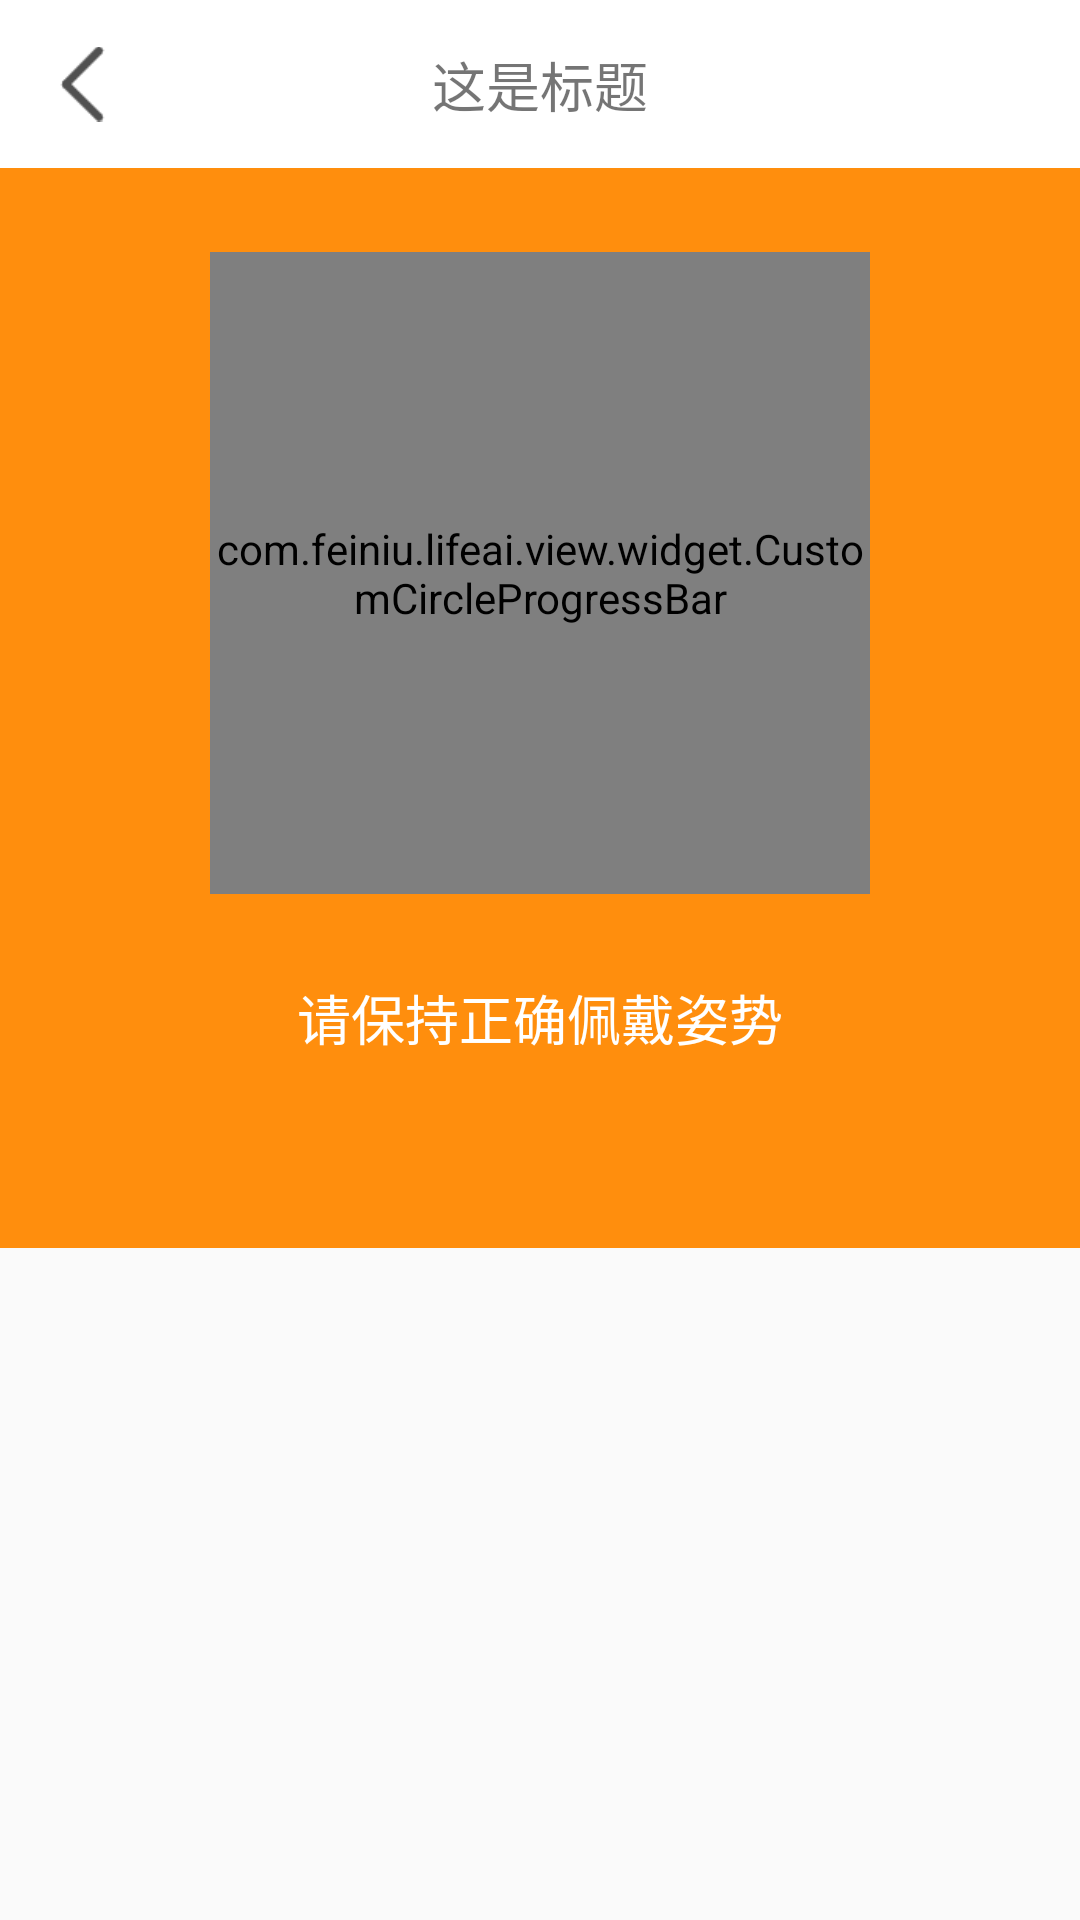

Icons on this 1080×1920 Android screen, each with the point to tap as point (x, y):
comm back: point (82, 84)
